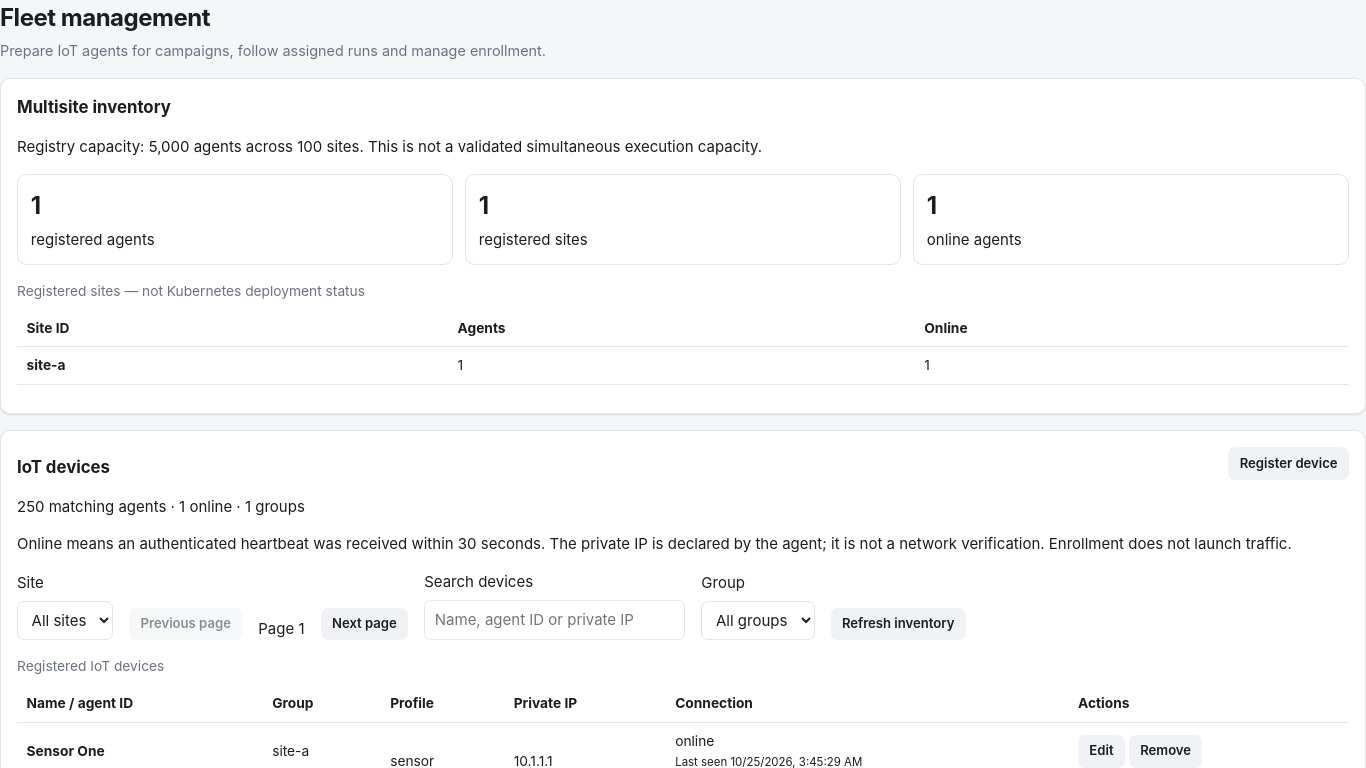
Test case: sends site, search and page filters to the server, resetting the page on filter changes
Expected: the button with aria-label "Edit Sensor One" is shown, [1078,735,1125,767]
Click the button "Next page" at (364, 624), box [321,608,408,640]
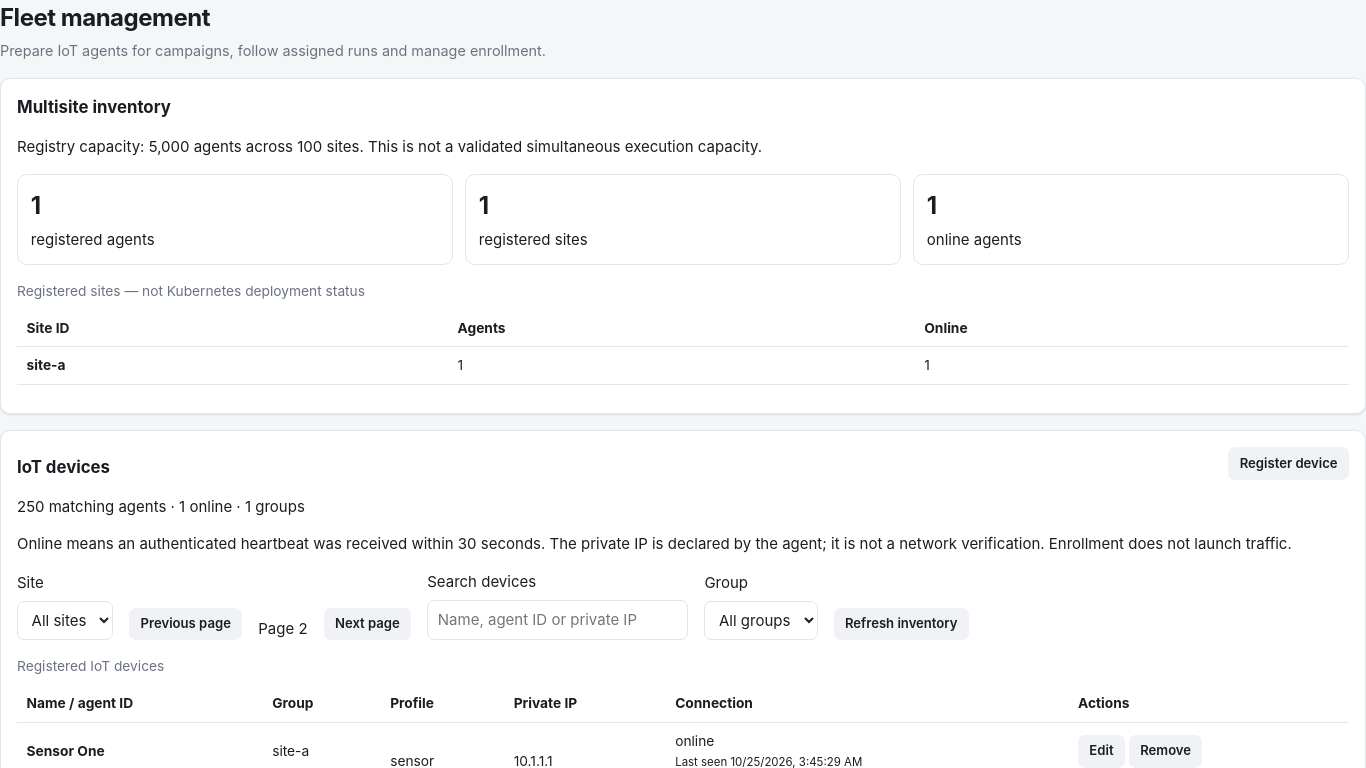
Select "site-a" in the dropdown labelled "Site" at (65, 621), box [17,601,113,640]
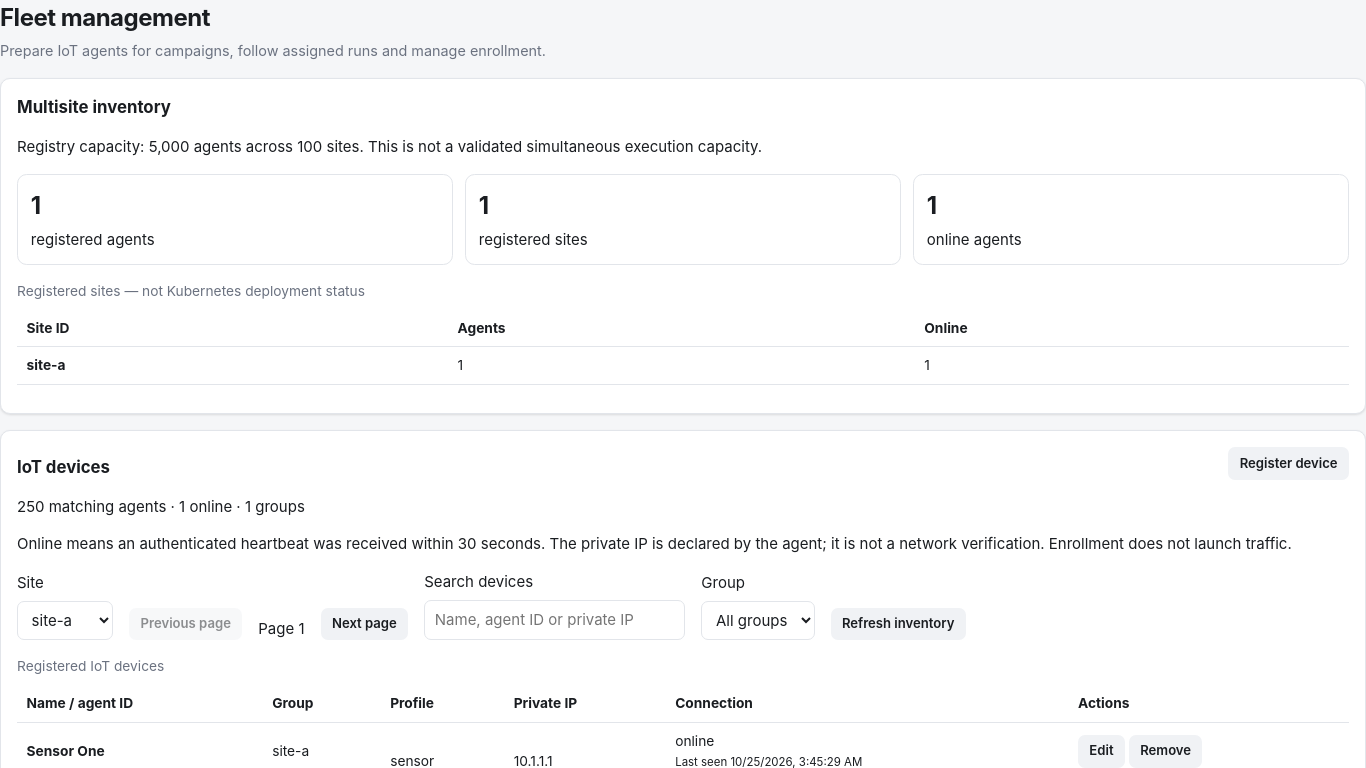
Click the button "Next page" at (364, 624), box [321,608,408,640]
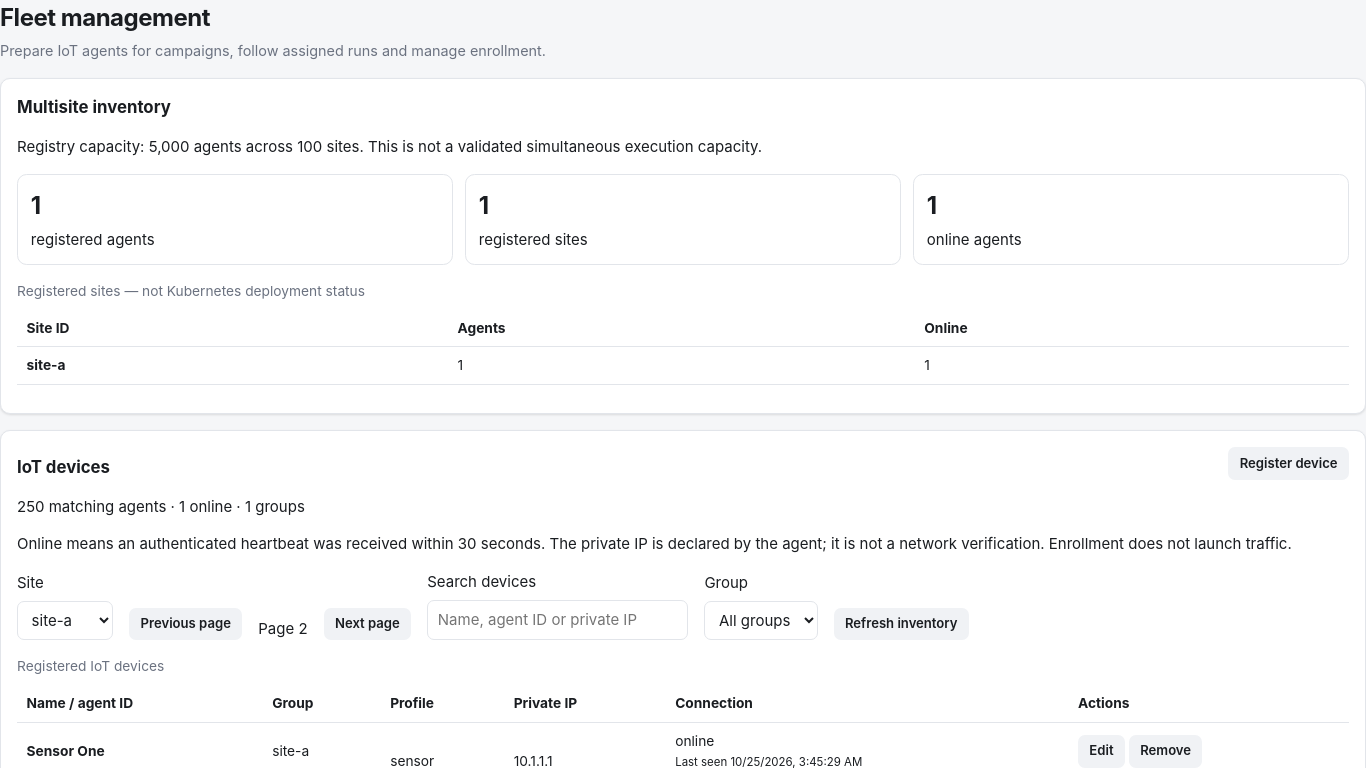
Click the button "Previous page" at (186, 624), box [129,608,242,640]
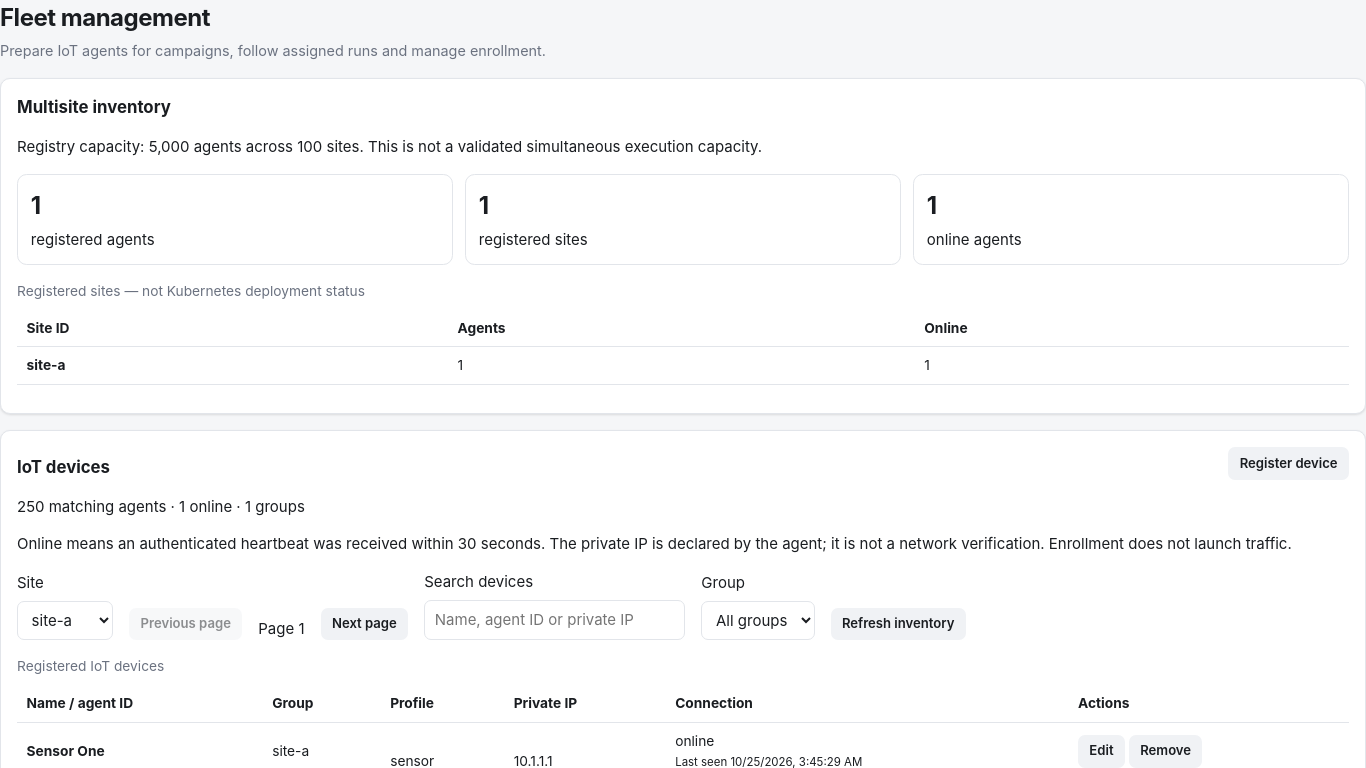
Type "missing" into the field labelled "Search devices" at (555, 620), box [424,600,685,640]
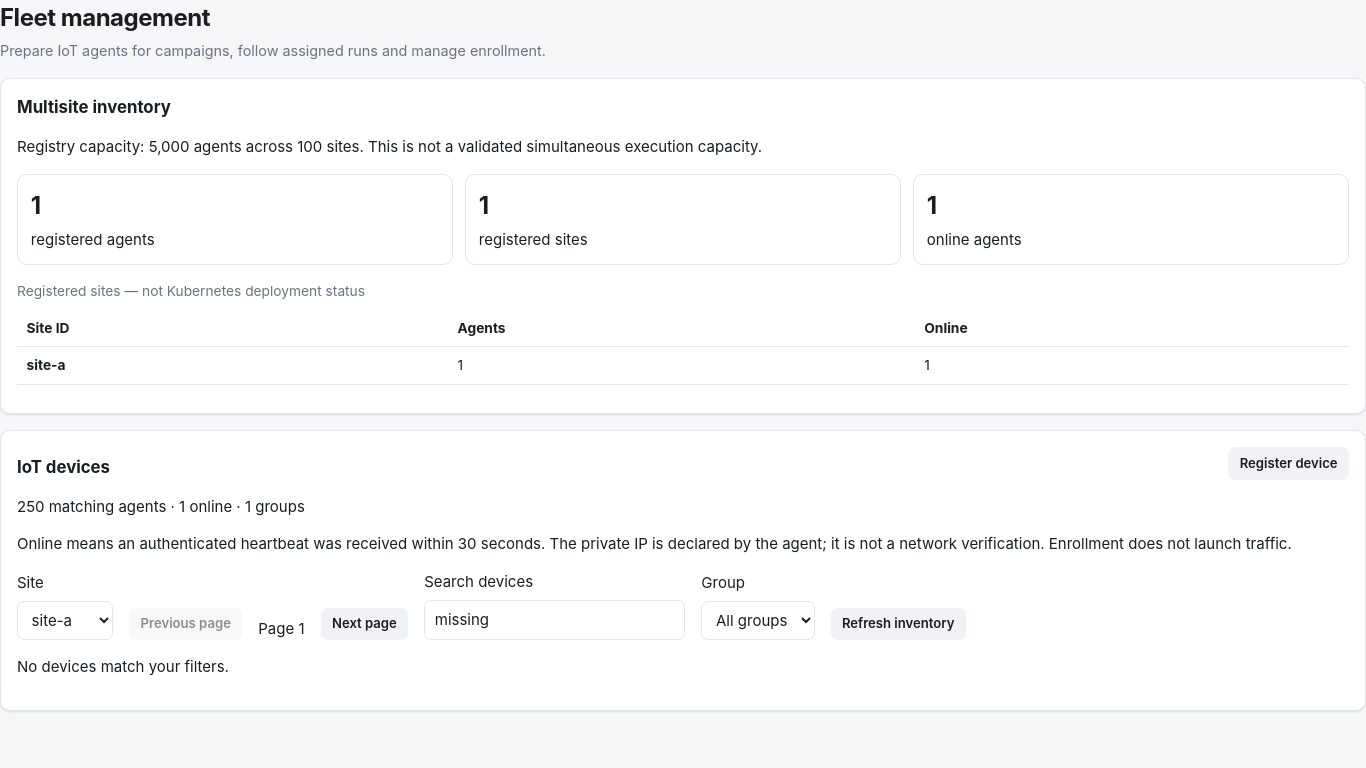
Expected: the text "No devices match your filters." is shown, [17,657,229,676]
